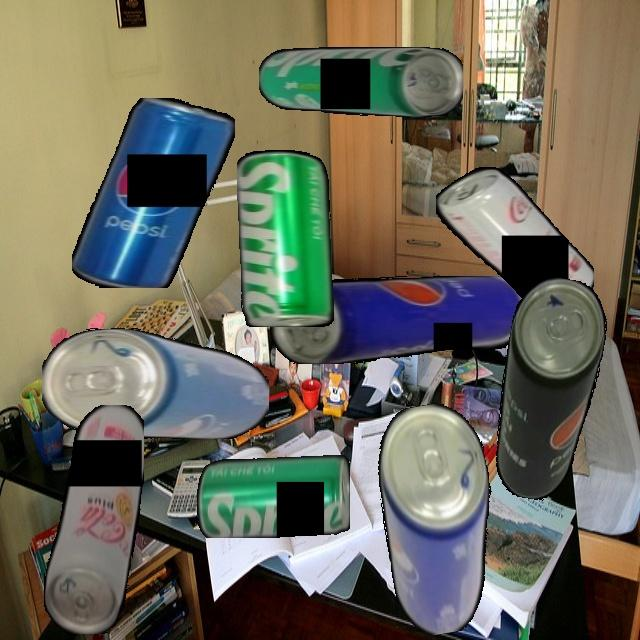debris: (365, 397, 514, 640), (72, 97, 235, 288), (483, 272, 614, 506), (42, 327, 269, 439), (43, 404, 144, 634), (270, 275, 524, 364), (435, 167, 594, 306), (237, 149, 334, 327), (258, 47, 463, 117), (196, 454, 350, 538)
